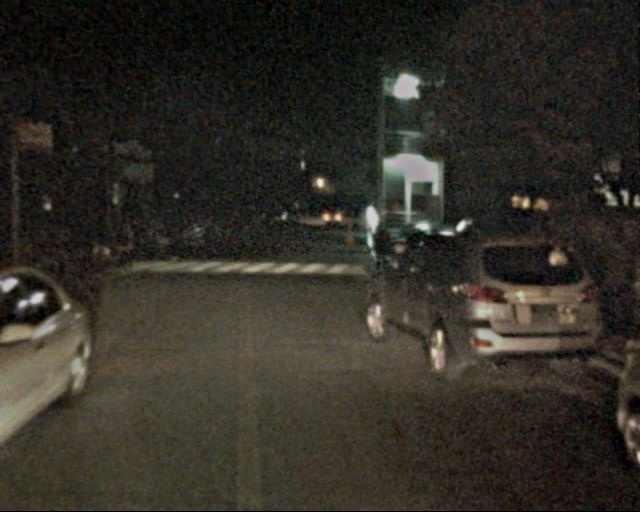person: (113, 214, 140, 279), (371, 223, 396, 283), (168, 218, 184, 262)
